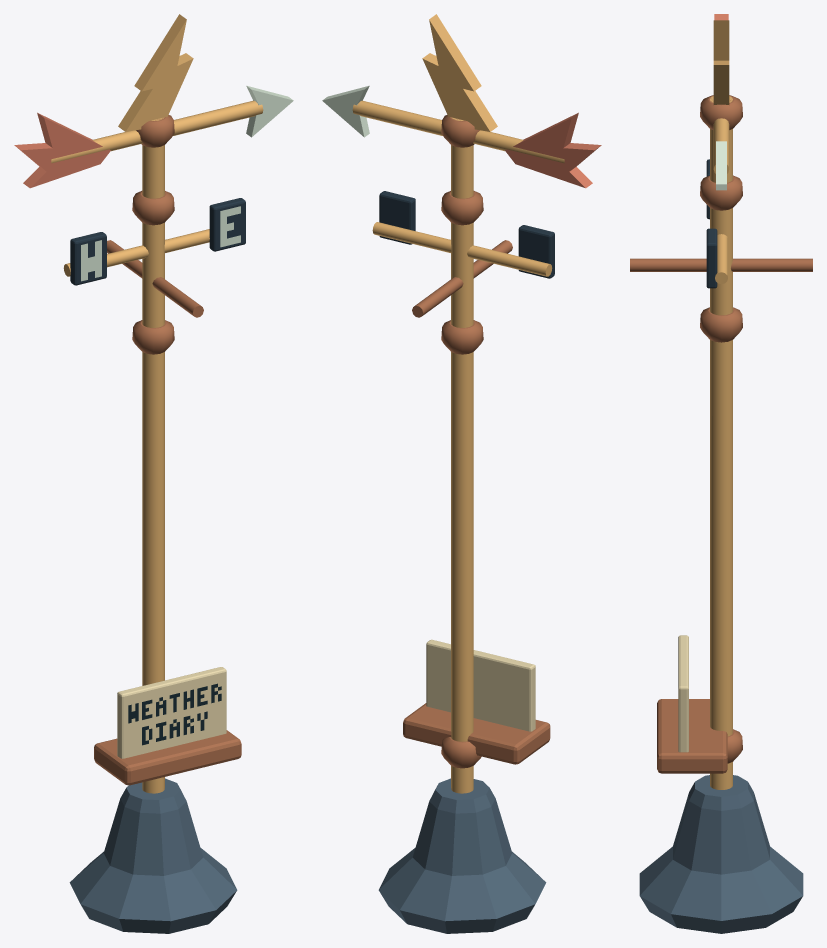
3 renders of one model, left to right at view 1: azimuth 30°, elevation 25°; view 2: azimuth 150°, elevation 25°; view 3: azimuth 270°, elevation 25°, orthographic.
Parts seen in each view (by area): view 1: PR076 enamel and hardware; view 2: PR076 enamel and hardware; view 3: PR076 enamel and hardware.
Boxes of the visible parts, x1,y1,x2,y2 form: PR076 enamel and hardware: (14,14,293,933); PR076 enamel and hardware: (322,14,601,933); PR076 enamel and hardware: (630,14,812,933).
Bounding box in the file's own units: 0.6 × 1.84 × 0.3406.
